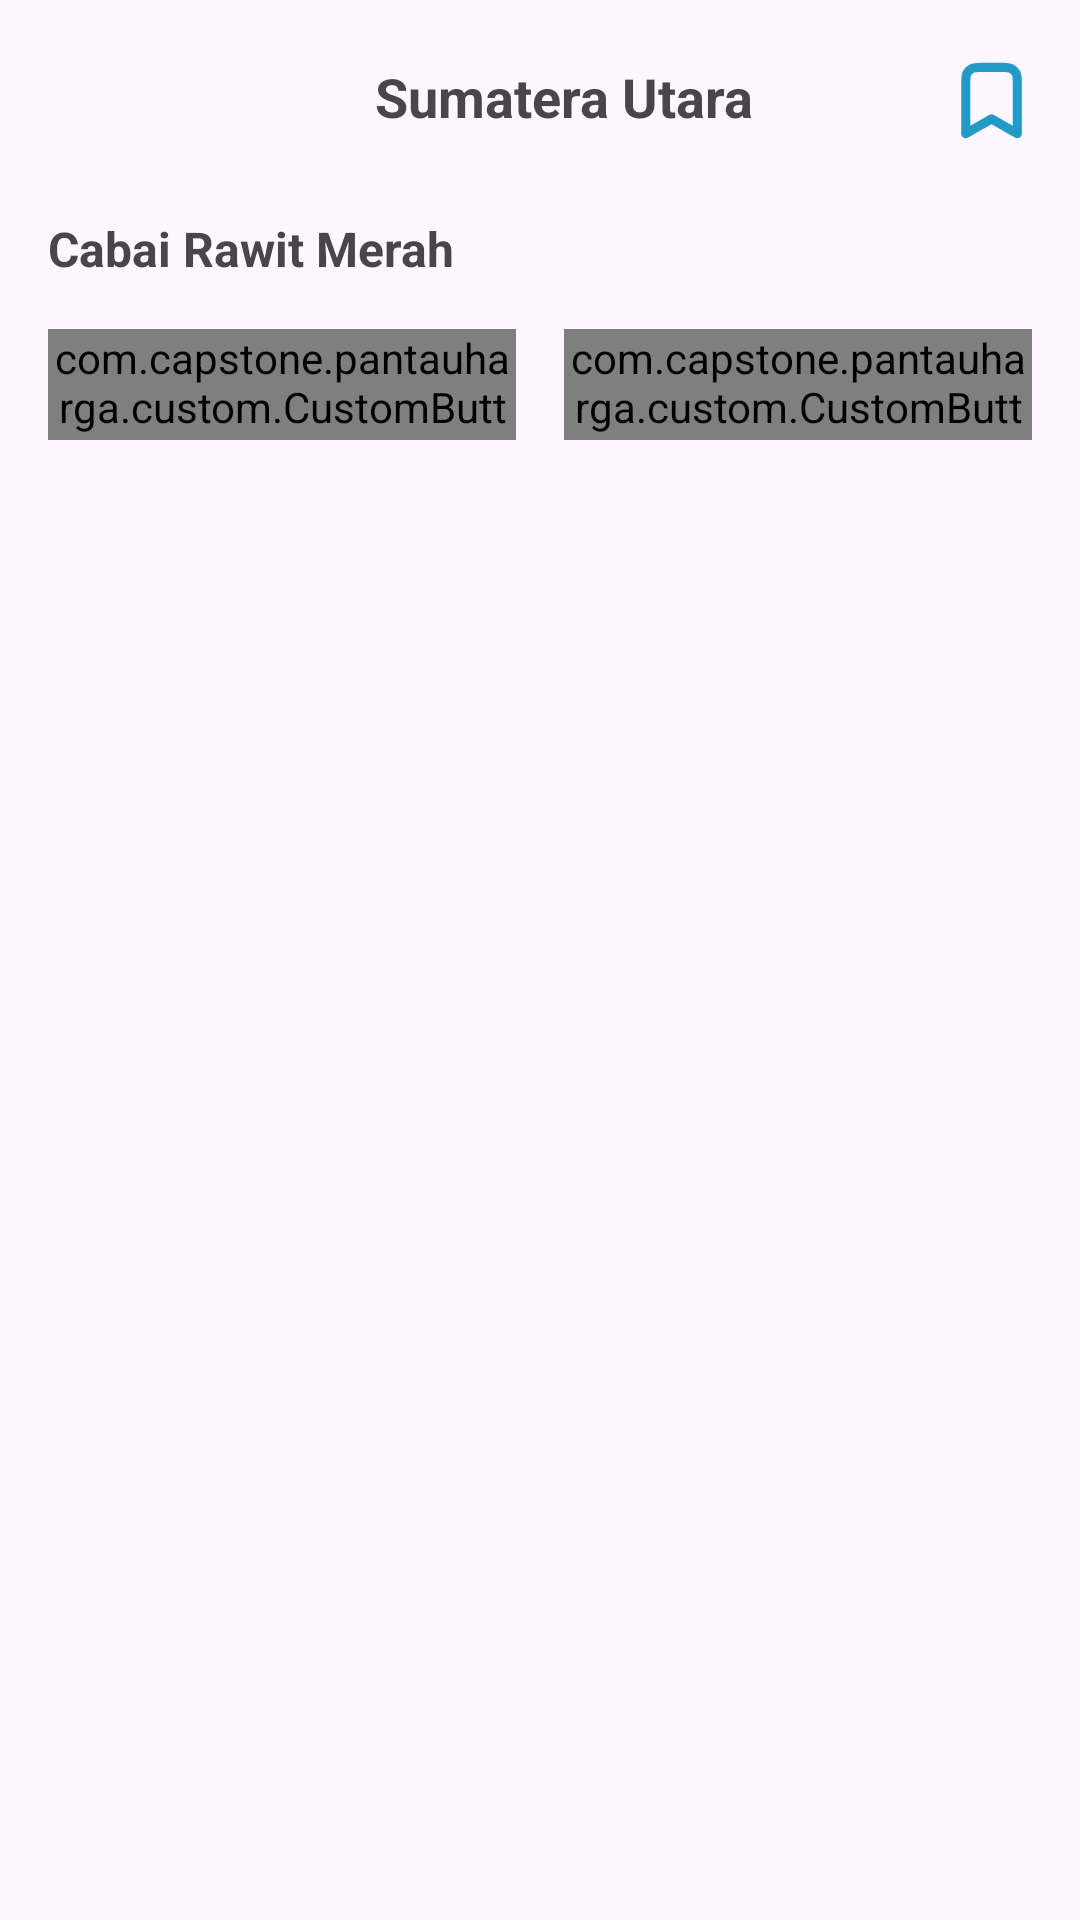

Named icons in this screenshot (1080 x 1920) and their centers, (x=x, y=y):
Bookmark: (x=991, y=100)
